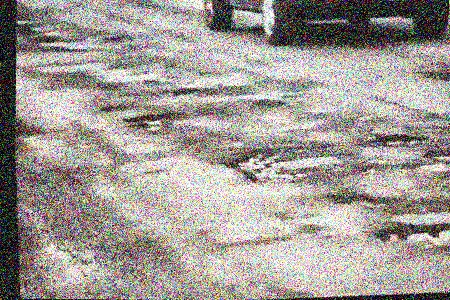pothole: (224, 148, 312, 189), (372, 214, 450, 250), (125, 110, 187, 136), (371, 130, 426, 148), (416, 149, 450, 175), (417, 66, 450, 85), (170, 87, 204, 97)
